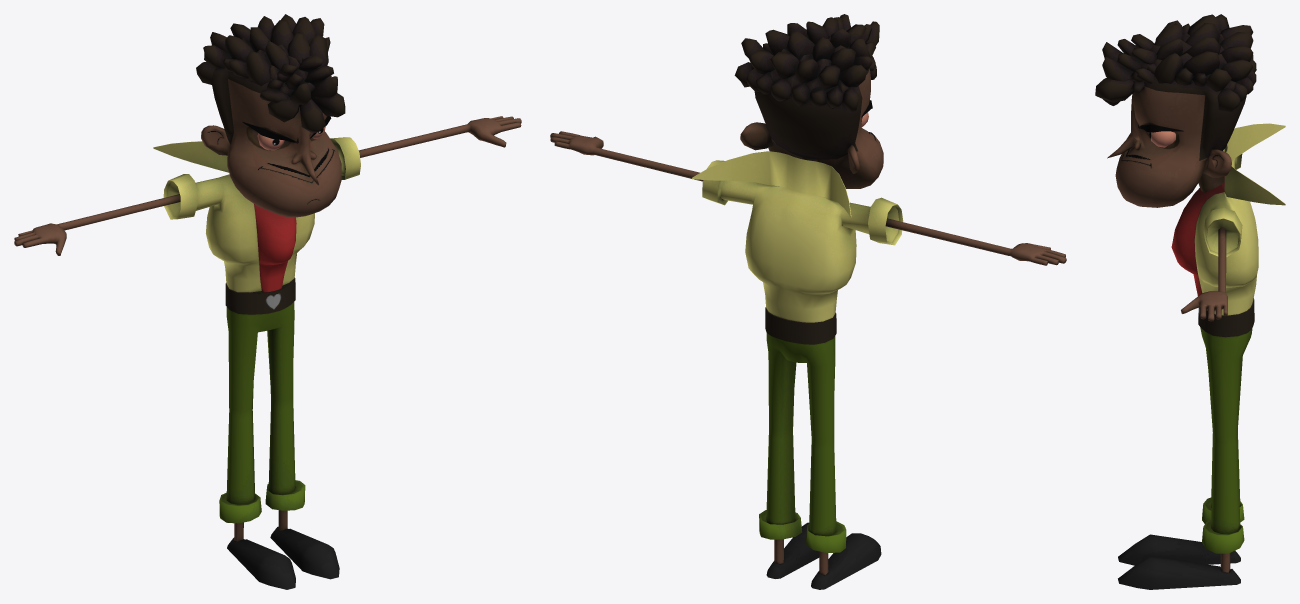
The model's file is Indian Thief 2.fbx.
3 renders of one model, left to right at view 1: azimuth 30°, elevation 25°; view 2: azimuth 150°, elevation 25°; view 3: azimuth 270°, elevation 25°, orthographic. The views are drawn at different scales.
Parts seen in each view (by area): view 1: Kallu_Body, Kallu_Body.001, Kallu_Body.002; view 2: Kallu_Body, Kallu_Body.001, Kallu_Body.002; view 3: Kallu_Body, Kallu_Body.001, Kallu_Body.002.
Part boxes in pixels (x1,y1,x2,y2): Kallu_Body: (14, 14, 521, 589); Kallu_Body.001: (219, 302, 305, 523); Kallu_Body.002: (225, 279, 295, 314); Kallu_Body: (550, 14, 1066, 589); Kallu_Body.001: (759, 333, 846, 553); Kallu_Body.002: (765, 308, 836, 344); Kallu_Body: (1095, 14, 1285, 589); Kallu_Body.001: (1200, 327, 1252, 553); Kallu_Body.002: (1198, 301, 1254, 337).
Bounding box in the file's own units: 24.94 × 24.88 × 7.96.
Materials: 1 (1 with a texture image).
